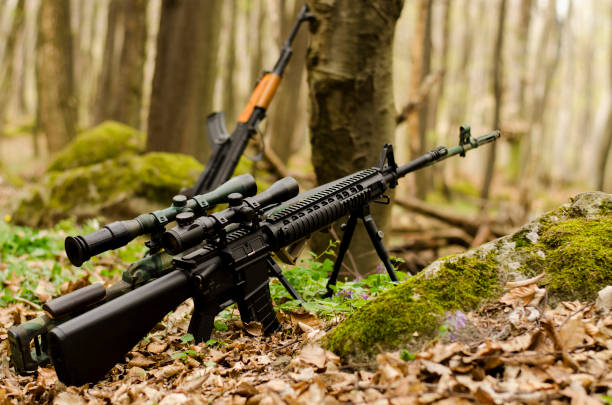rifle: (27, 124, 510, 369), (173, 5, 316, 187)
